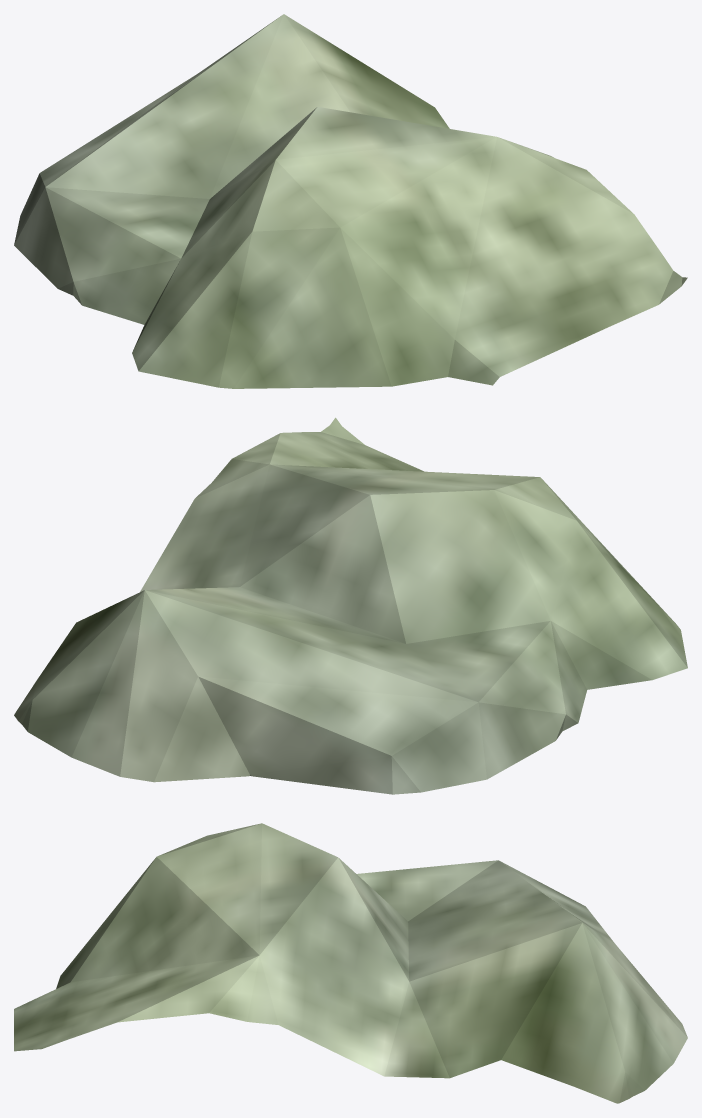
3 views of the same model, one above another, from view 1: azimuth 30°, elevation 25°; view 2: azimuth 150°, elevation 25°; view 3: azimuth 270°, elevation 25° (orthographic). The views are drawn at different scales.
Size of the model in its own units: 1.58 by 0.5327 by 2.15.
1 material, 1 textured.
